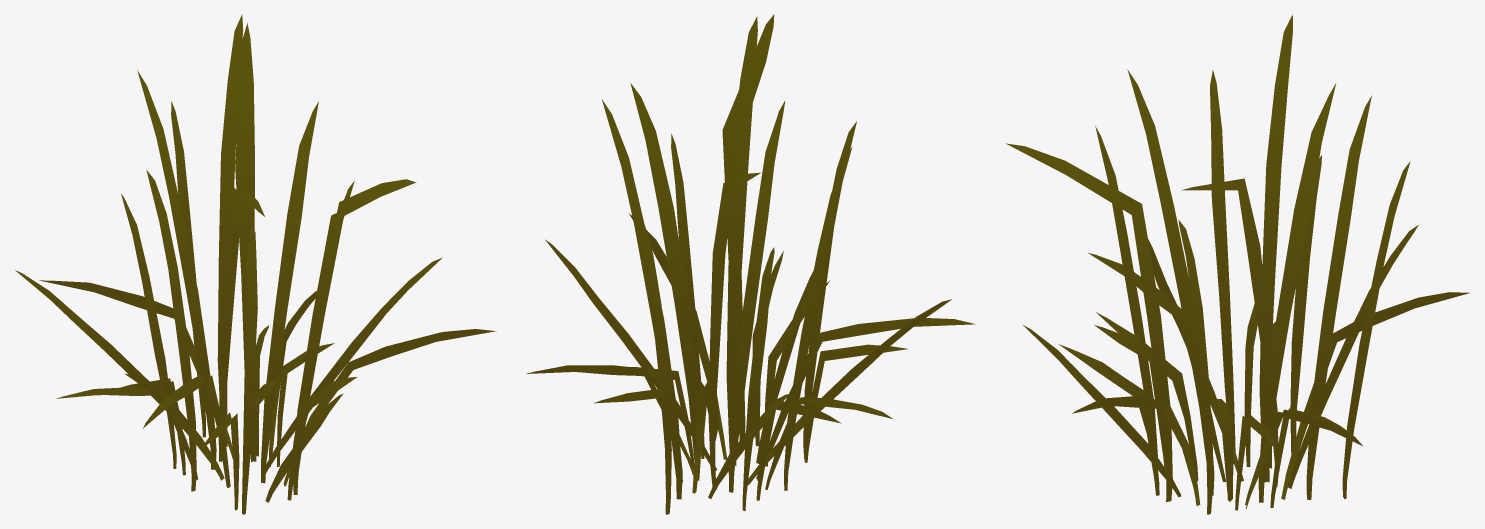
The model's file is reeds.glb.
3 renders of one model, left to right at view 1: azimuth 30°, elevation 25°; view 2: azimuth 150°, elevation 25°; view 3: azimuth 270°, elevation 25°, orthographic. The views are drawn at different scales.
Visible parts, largest first — view 1: reeds; view 2: reeds; view 3: reeds.
Part boxes in pixels (<box>): reeds: <box>15,14,496,514</box>; reeds: <box>526,14,975,514</box>; reeds: <box>1005,15,1469,514</box>.
Bounding box in the file's own units: 1.54 × 1.67 × 1.59.
1 material, 1 textured.
